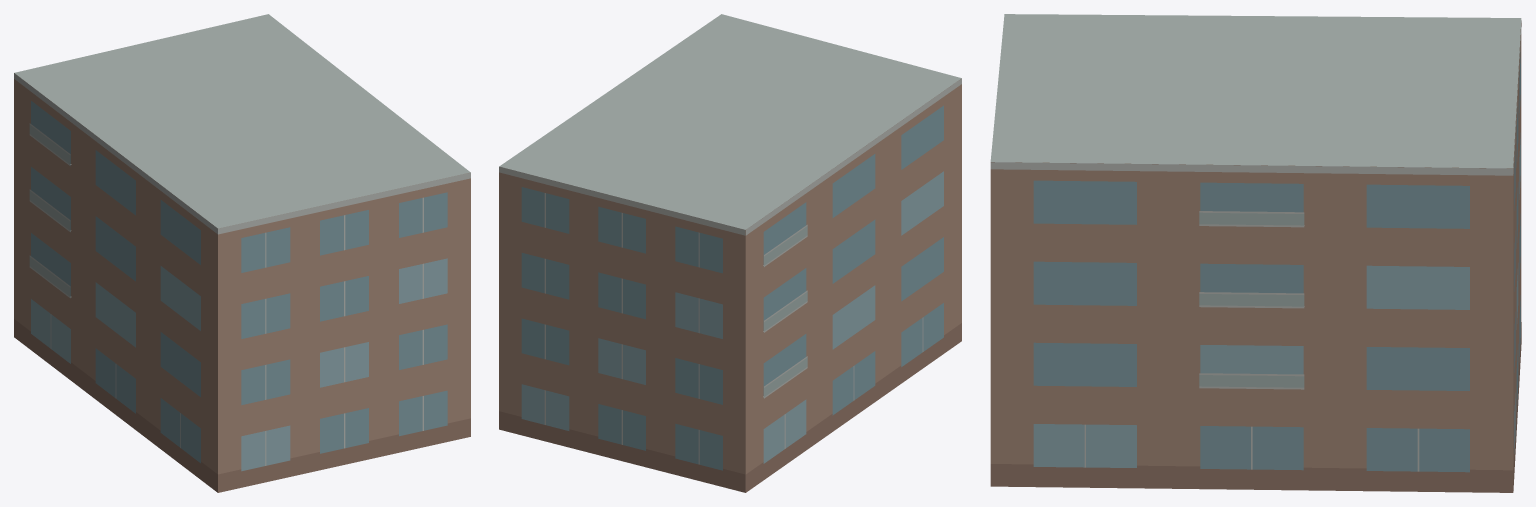
The model's file is survey-upis-33010755.glb.
3 renders of one model, left to right at view 1: azimuth 30°, elevation 25°; view 2: azimuth 150°, elevation 25°; view 3: azimuth 270°, elevation 25°, orthographic. The views are drawn at different scales.
Visible parts, largest first — view 1: survey-upis-33010755.tmp; view 2: survey-upis-33010755.tmp; view 3: survey-upis-33010755.tmp.
Boxes of the visible parts, x1,y1,x2,y2 form: survey-upis-33010755.tmp: (14,14,470,492); survey-upis-33010755.tmp: (499,14,961,492); survey-upis-33010755.tmp: (990,14,1521,492).
Bounding box in the file's own units: 11.14 × 10.9 × 16.18.
